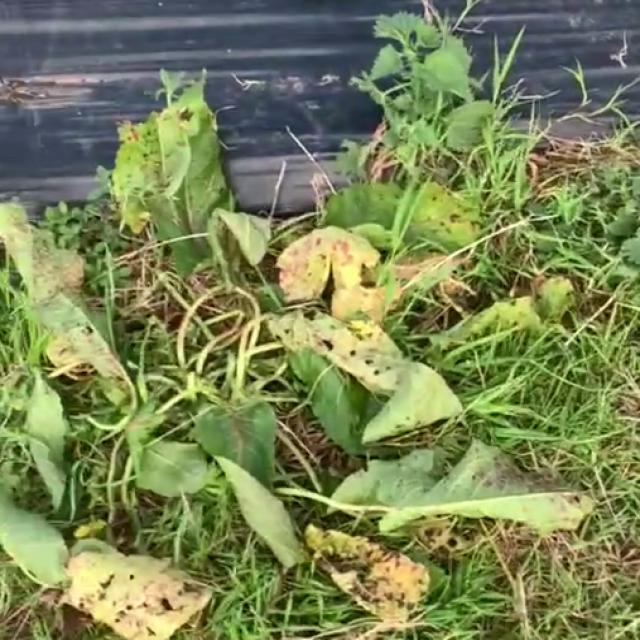organic waste: (0, 105, 559, 640)
